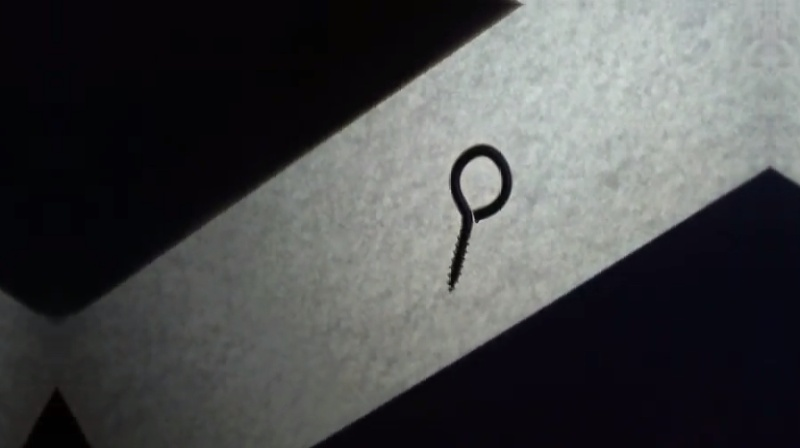O001: (441, 142, 515, 295)
